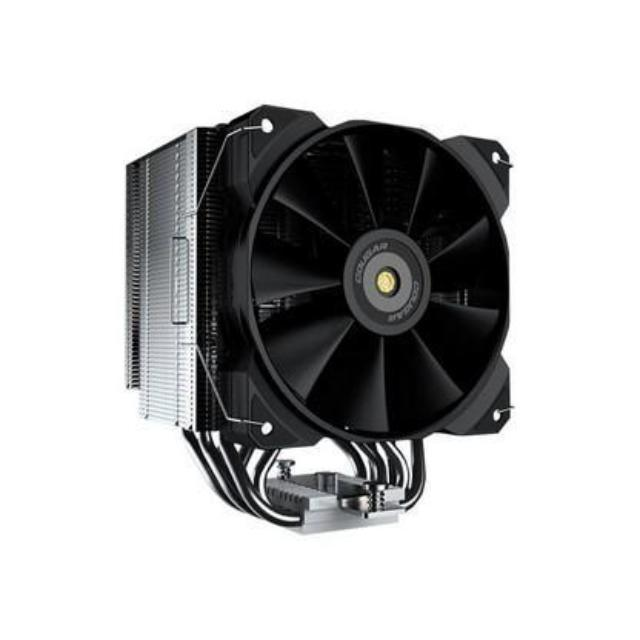CPU_Fan: (122, 104, 513, 536)
